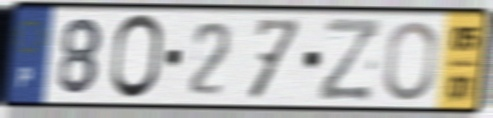2: (186, 19, 234, 98)
7: (247, 16, 302, 103)
8: (56, 15, 103, 98)
O: (108, 11, 166, 103), (381, 18, 440, 103)
Z: (315, 16, 384, 105)
